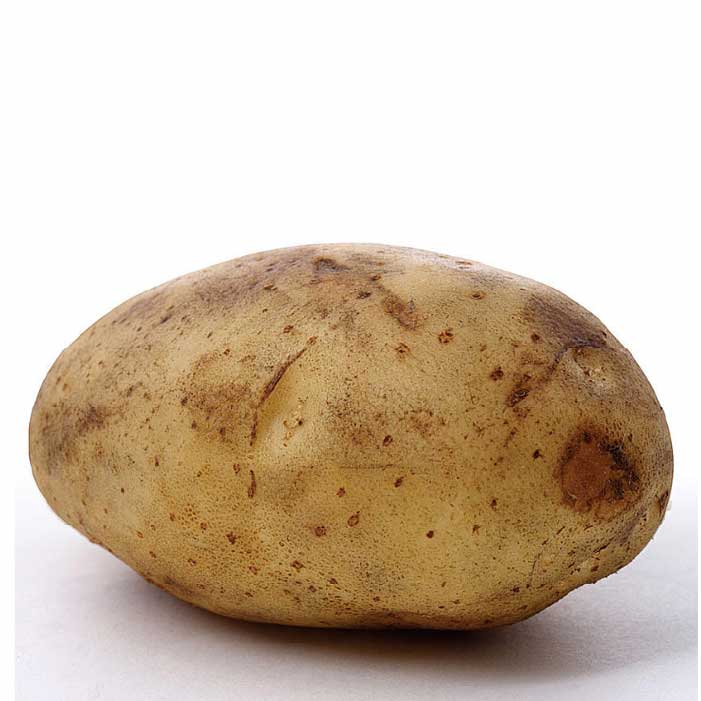Kartoffel: (28, 243, 674, 631)
